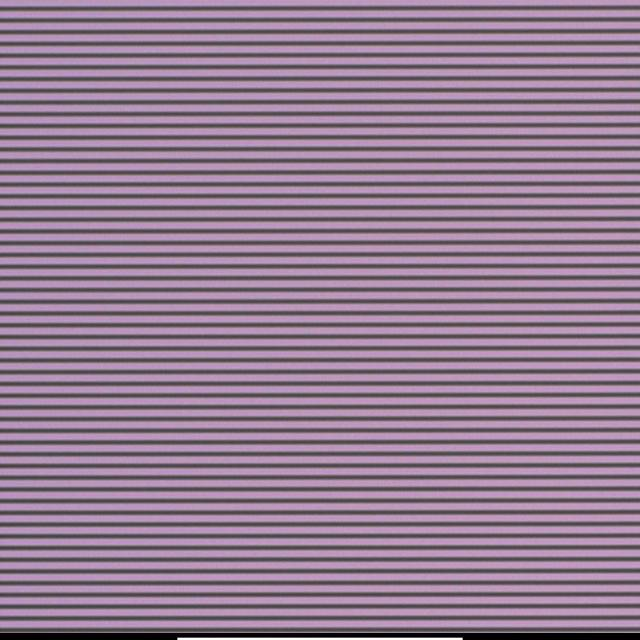nonvisual: (303, 327, 311, 336)
